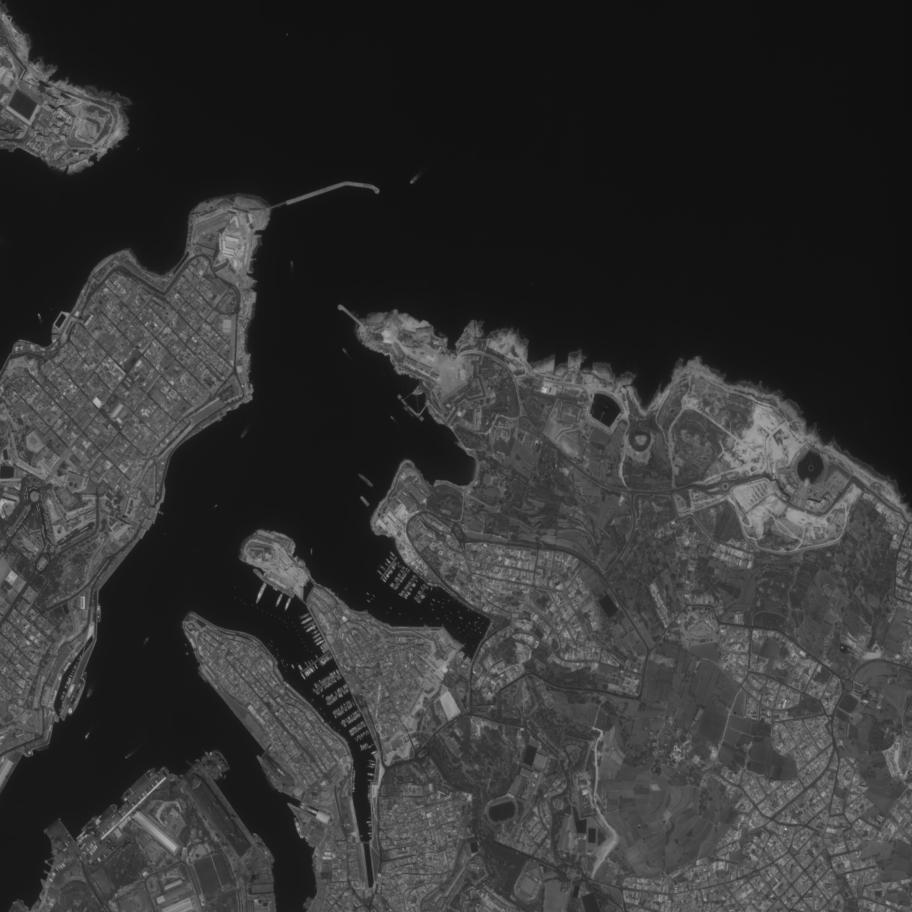ship: (185, 770, 239, 840), (118, 765, 159, 805), (66, 671, 90, 718), (250, 831, 277, 865), (93, 802, 121, 828), (199, 754, 223, 783), (211, 747, 233, 772), (253, 581, 269, 606), (356, 471, 376, 490), (80, 814, 98, 832), (292, 817, 305, 839), (301, 896, 315, 911), (358, 494, 372, 509), (274, 592, 286, 609), (408, 173, 422, 187), (283, 596, 294, 612), (302, 619, 317, 630), (297, 611, 312, 622), (304, 624, 318, 635), (300, 616, 314, 627), (197, 671, 209, 683), (85, 687, 96, 700), (96, 602, 102, 623), (141, 635, 151, 647), (315, 638, 326, 648), (83, 730, 93, 741), (311, 632, 323, 641), (313, 635, 324, 644), (341, 346, 349, 355), (123, 753, 132, 761), (370, 749, 379, 756), (36, 312, 43, 321), (366, 771, 375, 777), (367, 759, 376, 764), (369, 762, 377, 767), (367, 765, 375, 769), (367, 779, 374, 782)
storage-tank: (485, 397, 492, 405), (472, 401, 479, 409), (485, 385, 492, 392), (483, 378, 490, 385), (479, 399, 485, 407), (457, 411, 463, 417)
